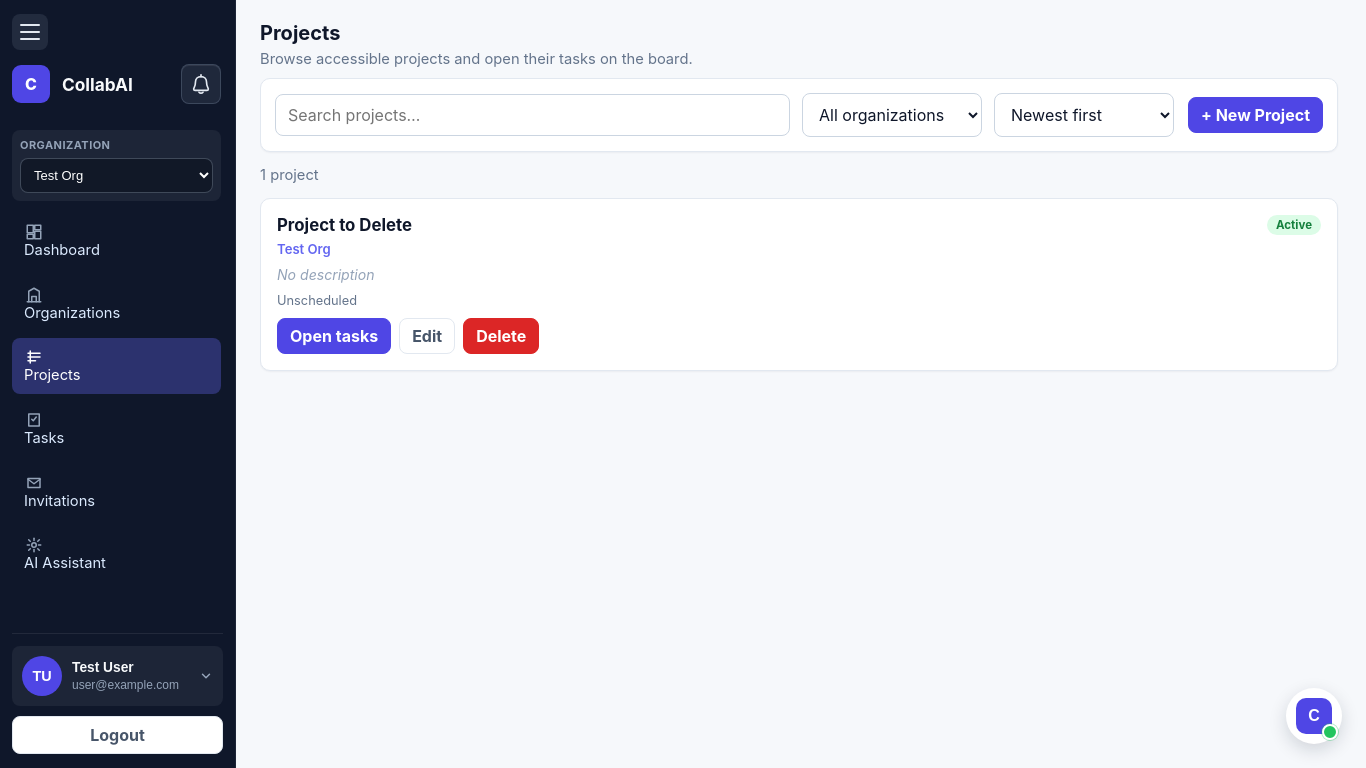
Test case: Project management › deletes a project
Click the button with test id "delete-project-20": coordinates (501, 336) [463,318,539,354]
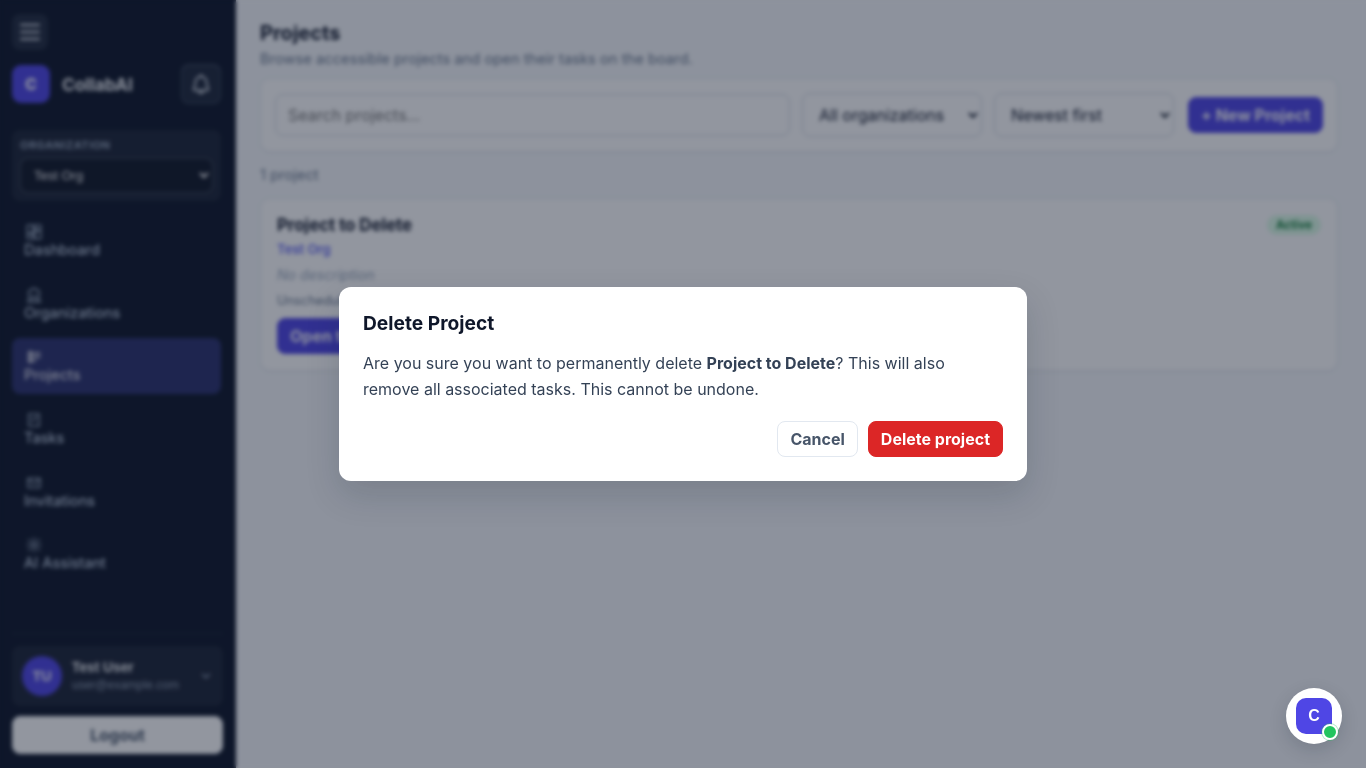
Click the button "Delete project": coordinates (936, 439) [868,421,1003,457]
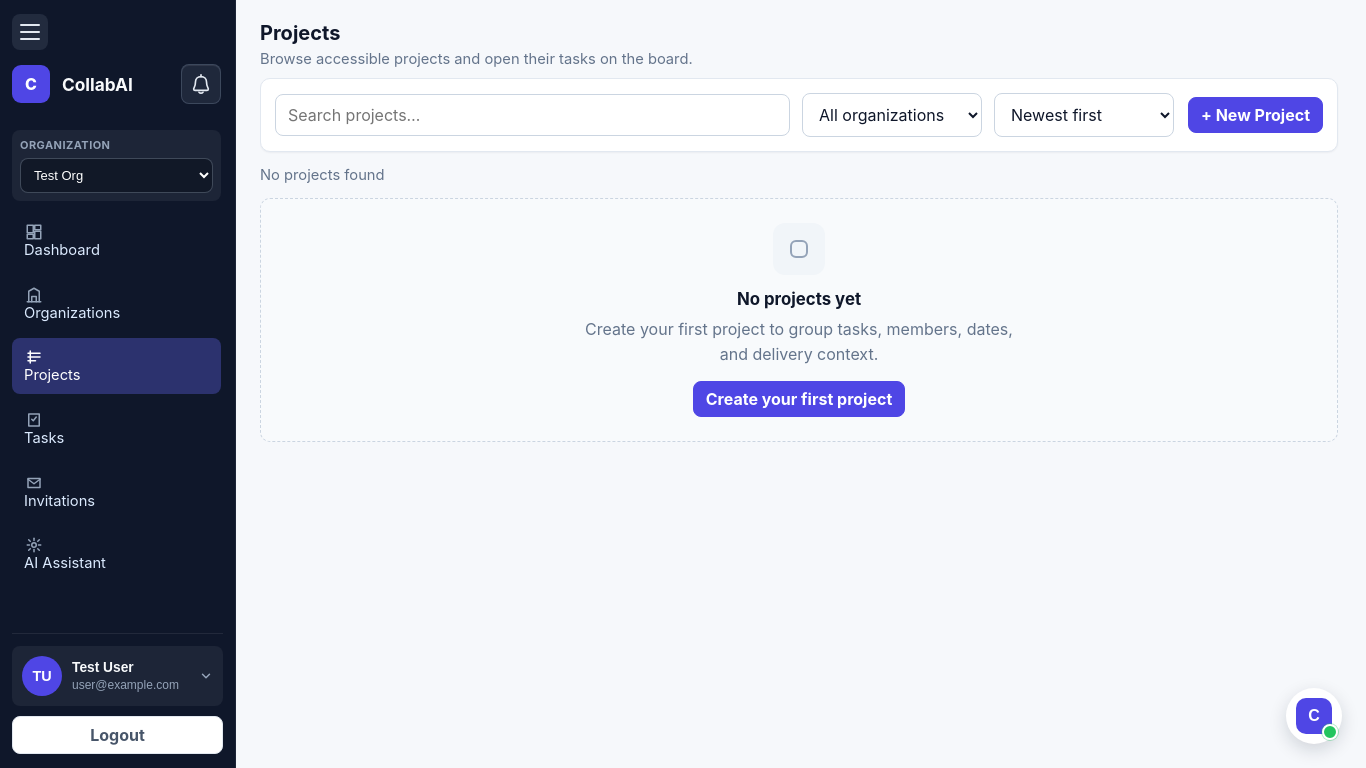
expect the heading "Project to Delete" is gone: met
